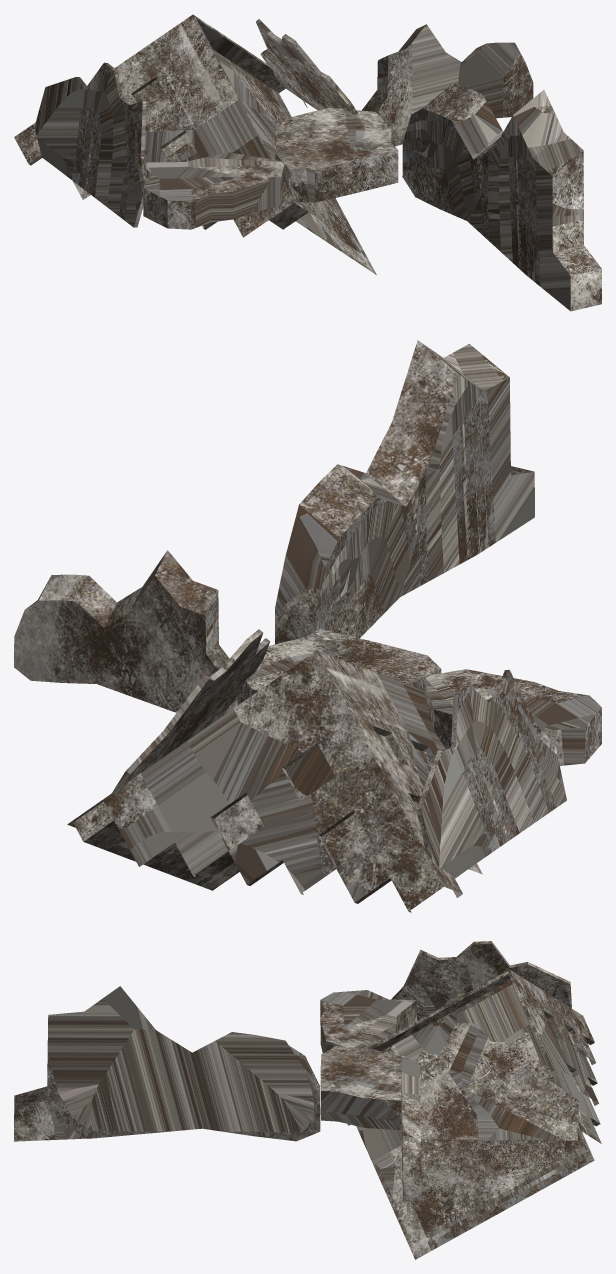
The model's file is Ruinas1.obj.
3 views of the same model, one above another, from view 1: azimuth 30°, elevation 25°; view 2: azimuth 150°, elevation 25°; view 3: azimuth 270°, elevation 25° (orthographic). The views are drawn at different scales.
Parts seen in each view (by area): view 1: Box107; view 2: Box107; view 3: Box107.
Part boxes in pixels (box(x1,y1,x2,y2)): Box107: box(14, 14, 601, 311); Box107: box(14, 340, 601, 912); Box107: box(14, 941, 601, 1259).
Size of the model in its own units: 107 by 74.24 by 143.
